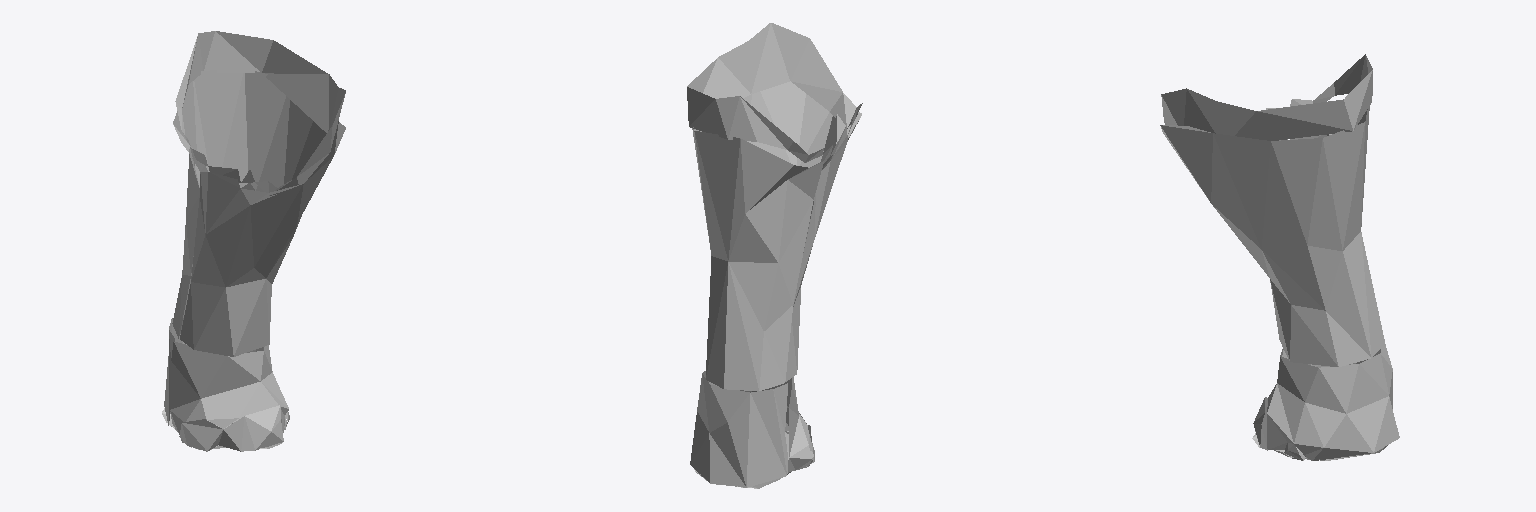
File: elefante_pata_izq_atras.obj
3 views of the same model, side by side, from view 1: azimuth 30°, elevation 25°; view 2: azimuth 150°, elevation 25°; view 3: azimuth 270°, elevation 25° (orthographic).
Visible parts, largest first — view 1: elefante_pata_izq_atras; view 2: elefante_pata_izq_atras; view 3: elefante_pata_izq_atras.
Boxes of the visible parts, <box> form: elefante_pata_izq_atras: <box>162,31,345,451</box>; elefante_pata_izq_atras: <box>687,23,862,488</box>; elefante_pata_izq_atras: <box>1160,54,1399,460</box>.
Size of the model in its own units: 0.4742 by 1.43 by 0.7977.